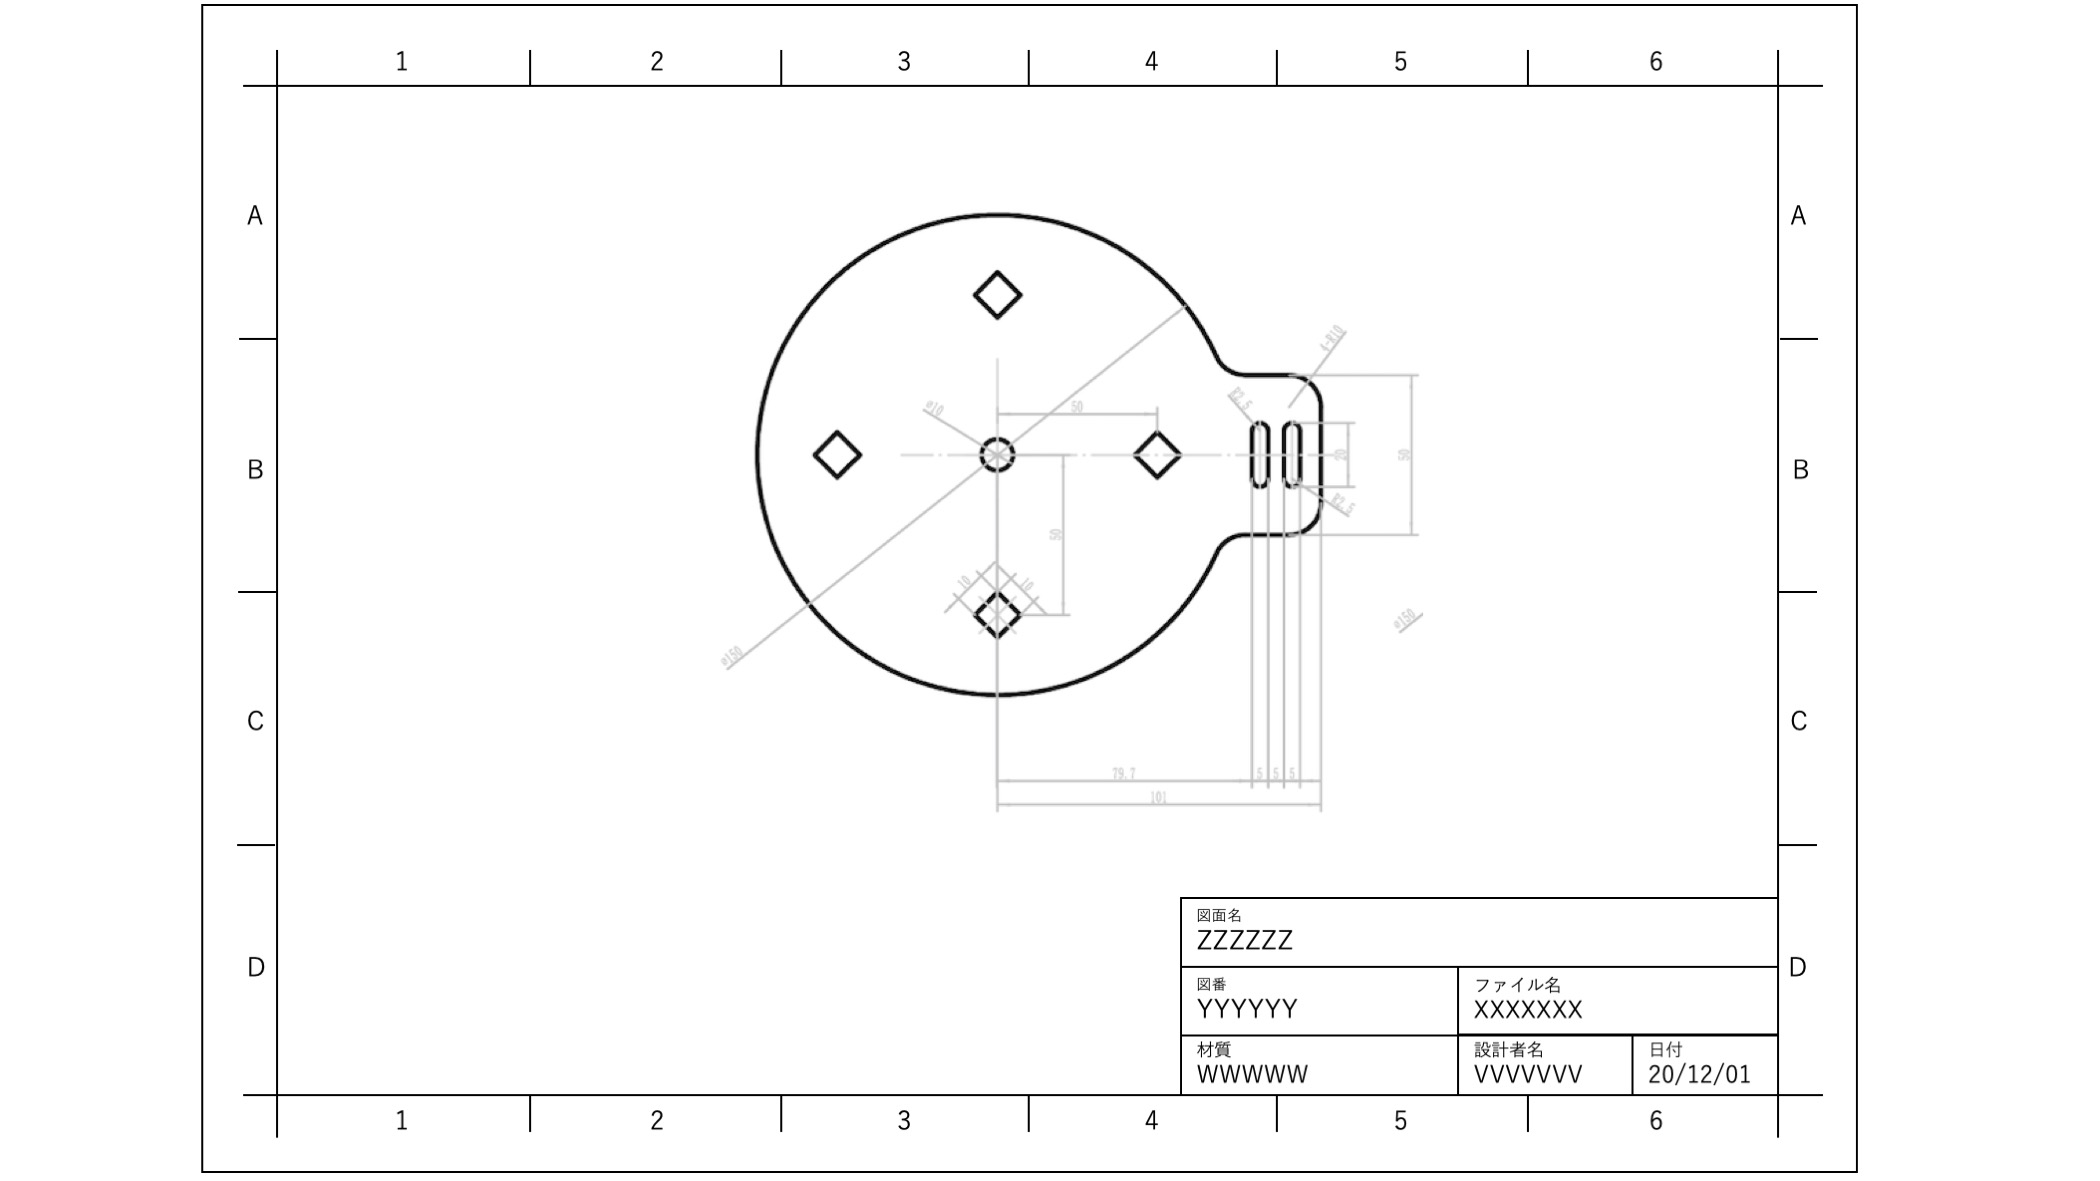circle: (976, 433, 1020, 477)
rectangle: (965, 254, 1031, 326), (962, 593, 1031, 647), (1126, 425, 1186, 487), (808, 425, 867, 480)
round_rectangle: (1236, 410, 1282, 499), (1278, 411, 1305, 506)
